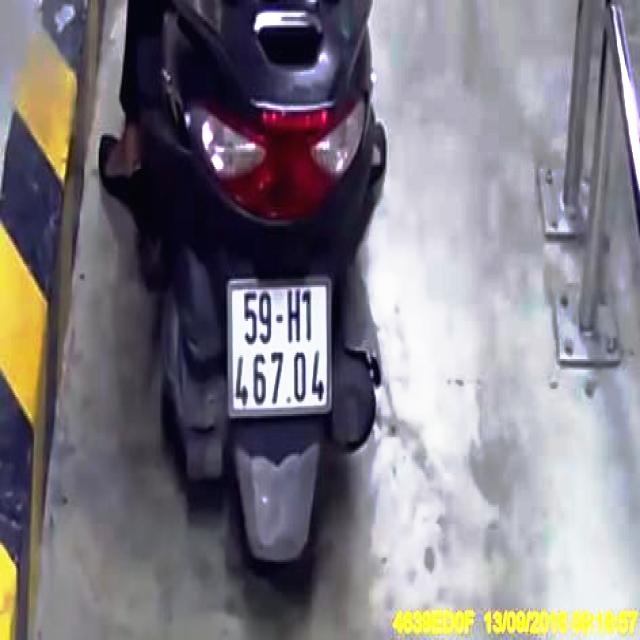license_plate: (229, 281, 332, 419)
